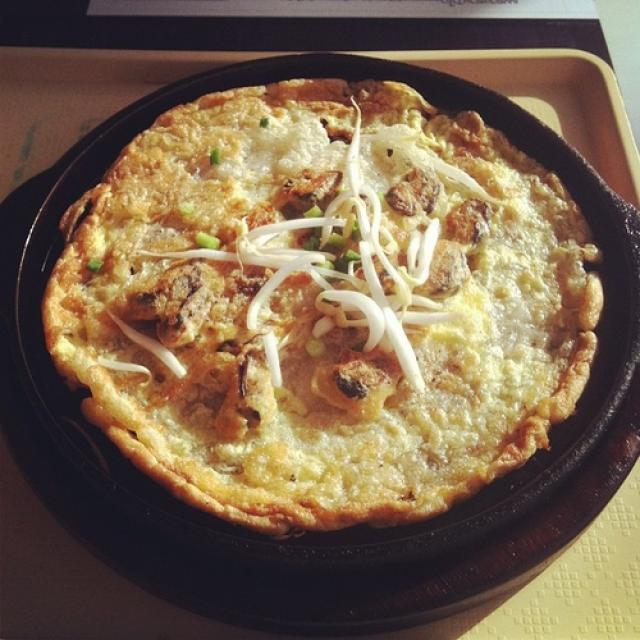炸货点心: (18, 48, 617, 570)
蛋糕甜品: (18, 48, 617, 570)
